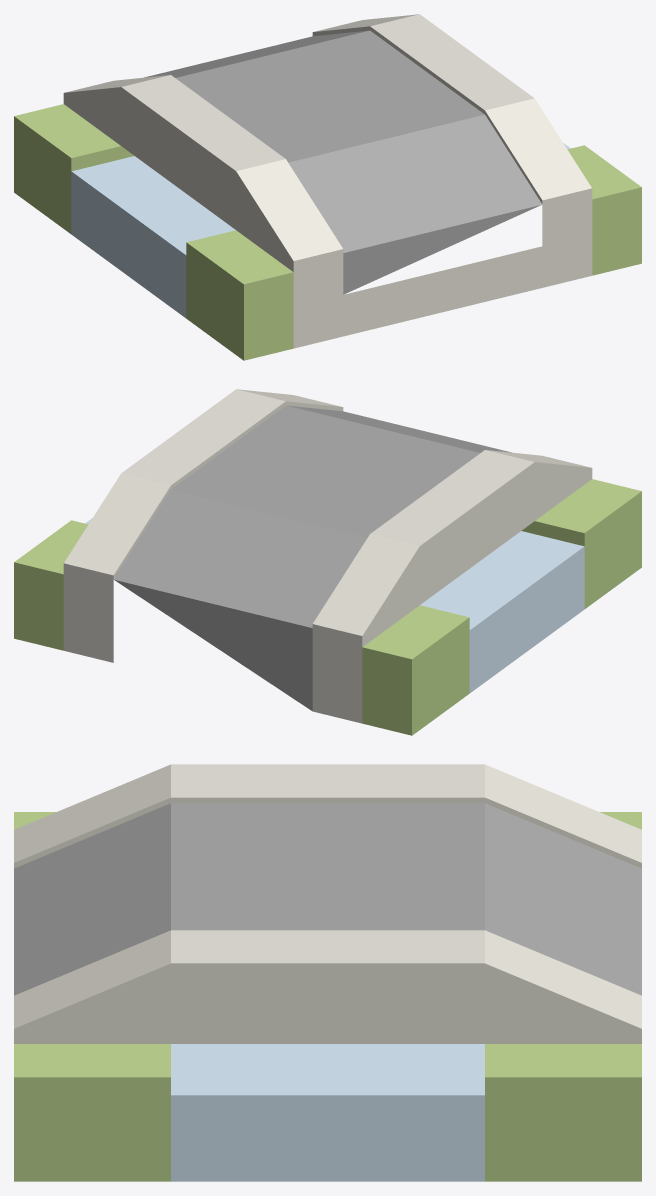
File: kenney-3d-road-tiles-roadtile-187.glb
3 renders of one model, top to bottom at view 1: azimuth 30°, elevation 25°; view 2: azimuth 150°, elevation 25°; view 3: azimuth 270°, elevation 25°, orthographic. The views are drawn at different scales.
Visible parts, largest first — view 1: Mesh1 Group1 Model; view 2: Mesh1 Group1 Model; view 3: Mesh1 Group1 Model.
Boxes of the visible parts, x1,y1,x2,y2 form: Mesh1 Group1 Model: (14, 14, 641, 360); Mesh1 Group1 Model: (14, 389, 641, 735); Mesh1 Group1 Model: (14, 764, 641, 1181).
Bounding box in the file's own units: 3 × 0.975 × 3.
